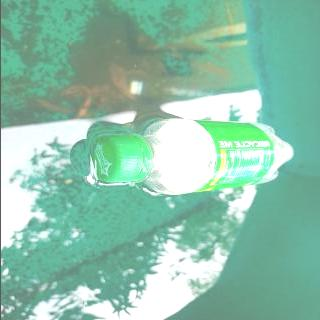bottle: (85, 116, 300, 196)
